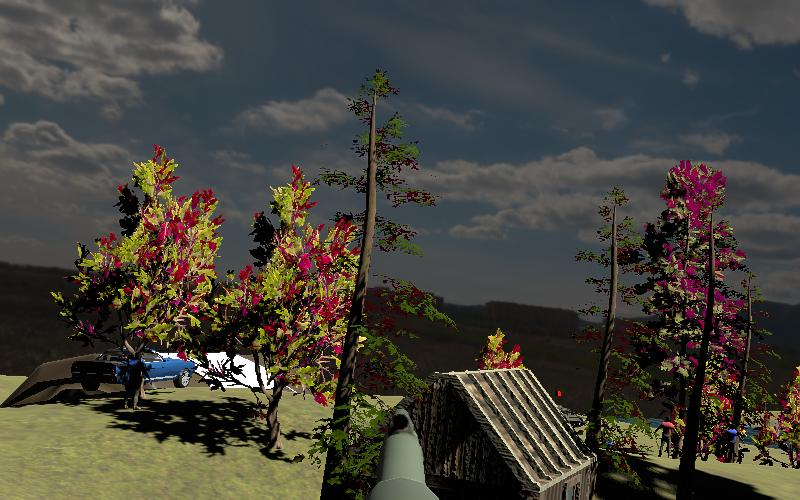car: (69, 342, 228, 393)
